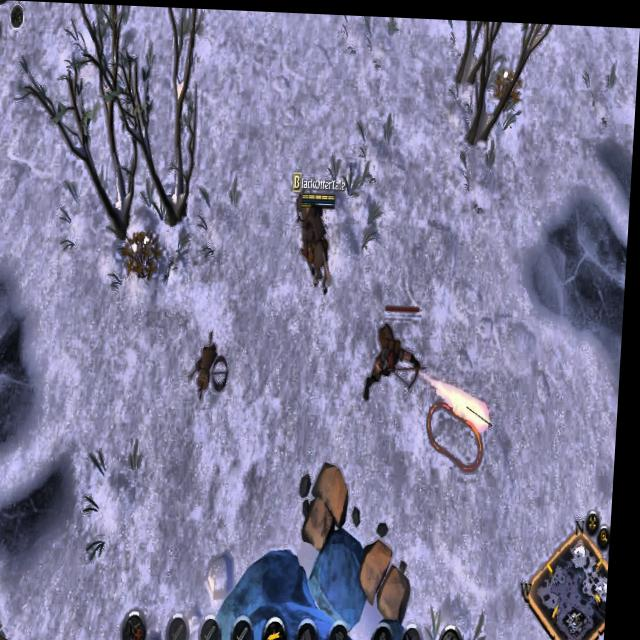limestone: (298, 441, 363, 556), (360, 532, 427, 622)
